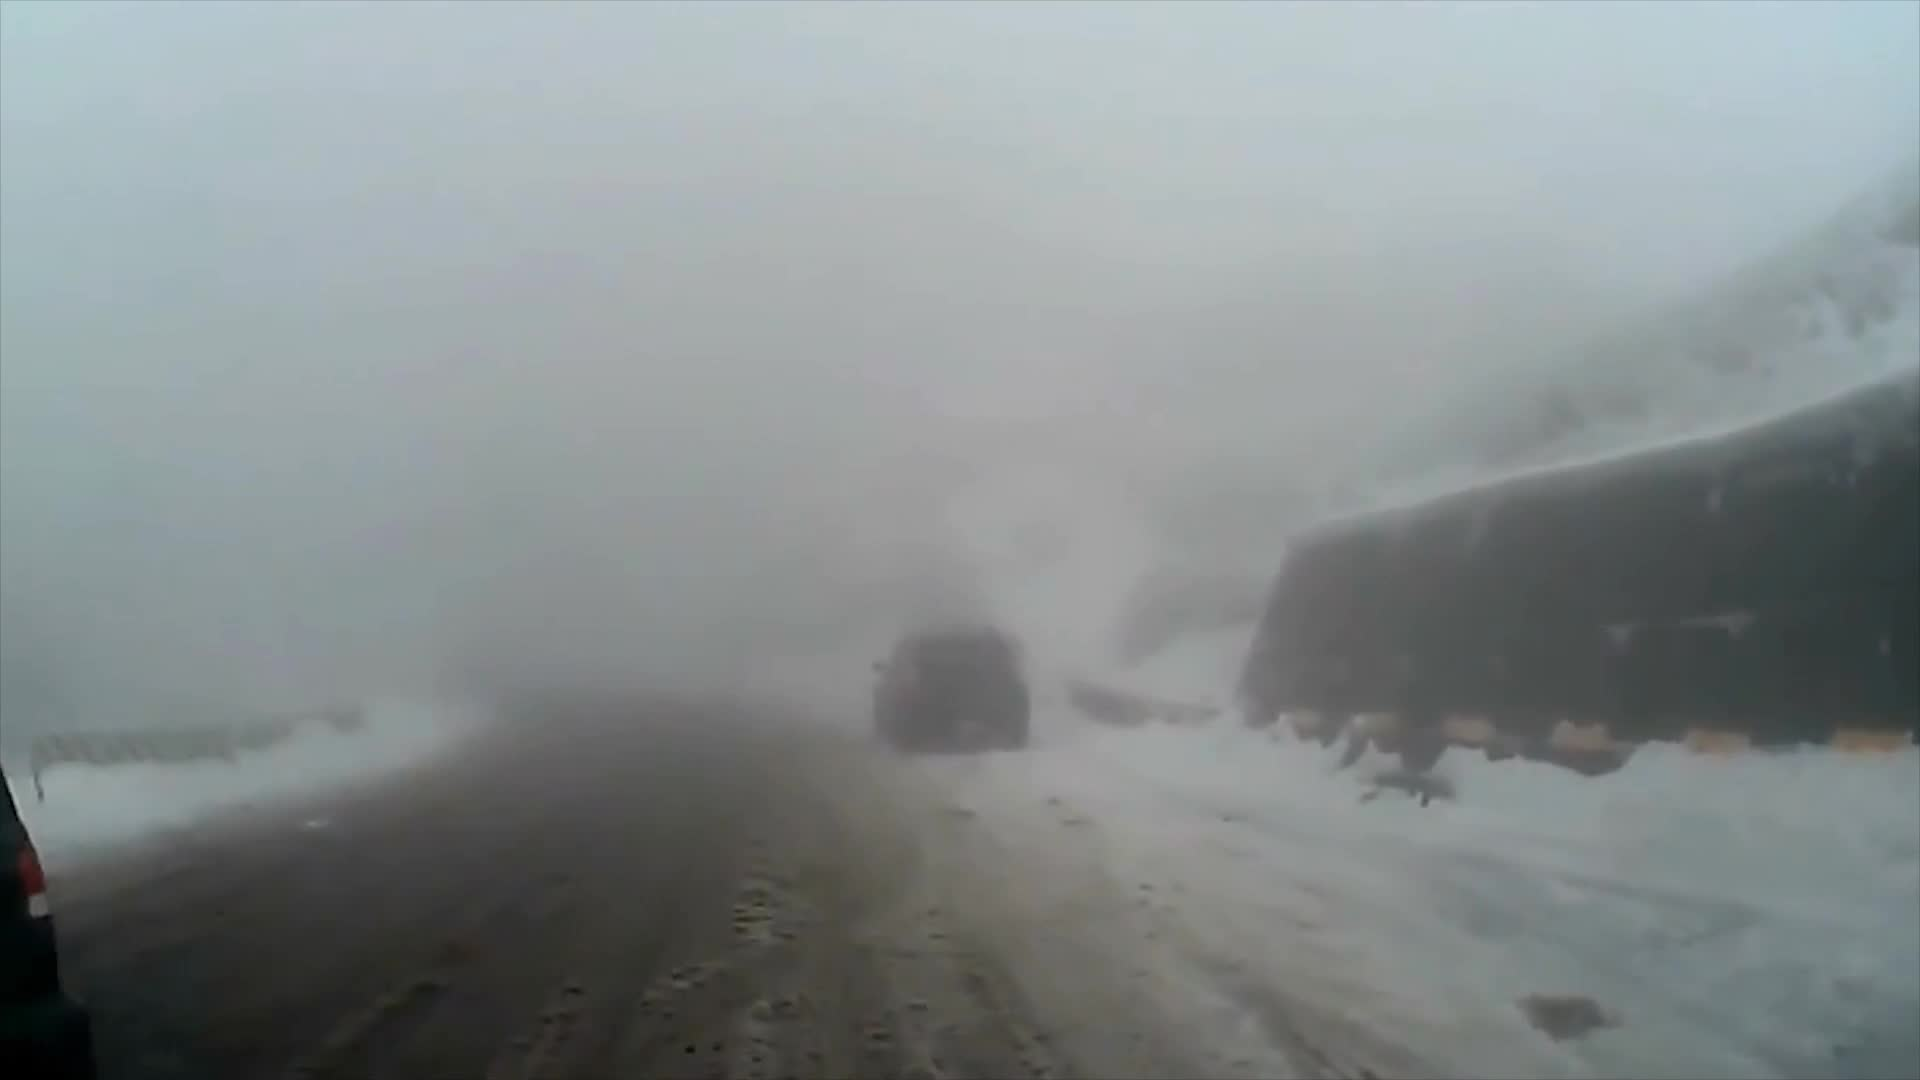vehicle: (0, 756, 84, 1079), (866, 617, 1026, 754)
